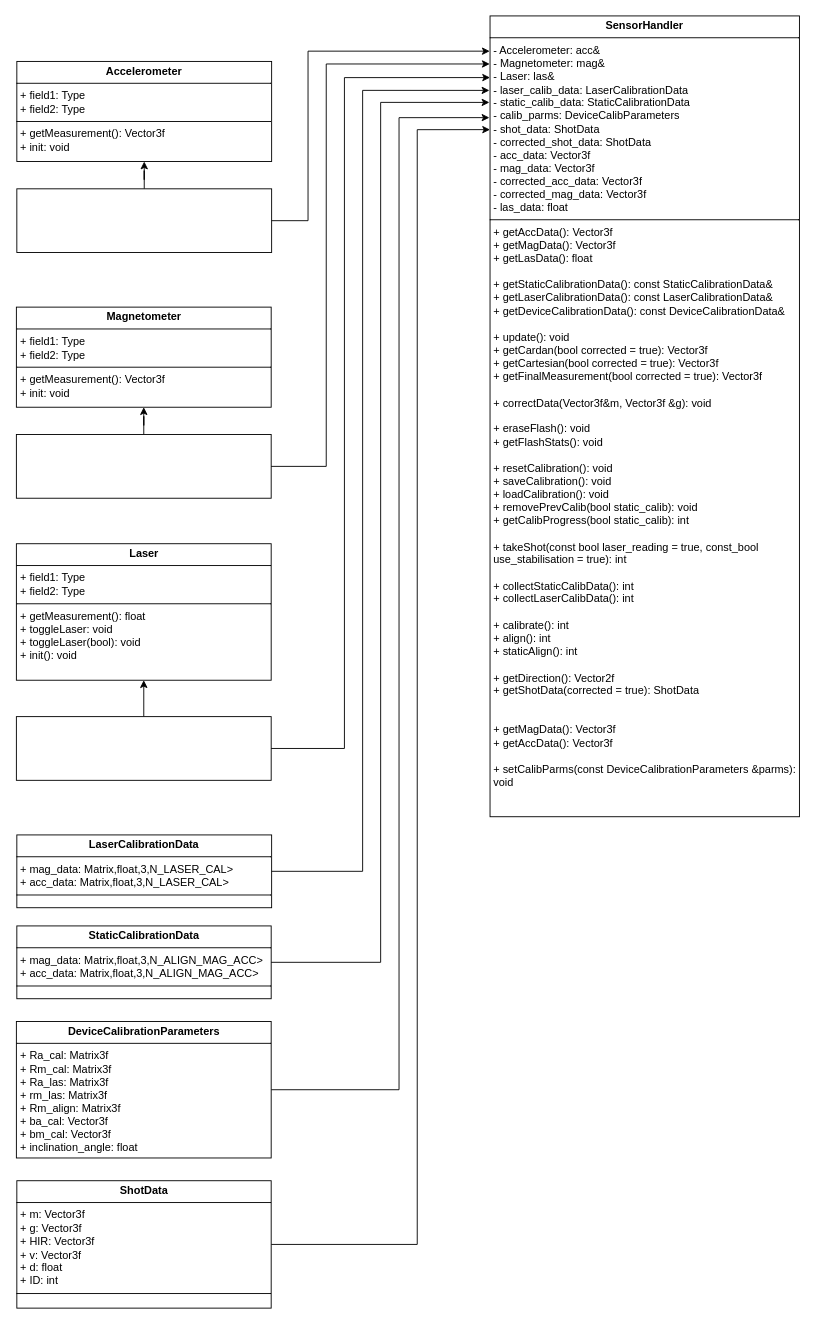
This 815x1324 diagram has some shape labels left out. Each missing label, with the centre of its shape:
"LDK2MSensorConnection - ldk2m_connection: LDK_2M&" belongs at (143,748).
"RM3100SensorConnection - rm3100_connection: RM3100&" belongs at (143,466).
"SCA3300SensorConnection - sca3300_connection: SCA3300&" belongs at (144,220).
